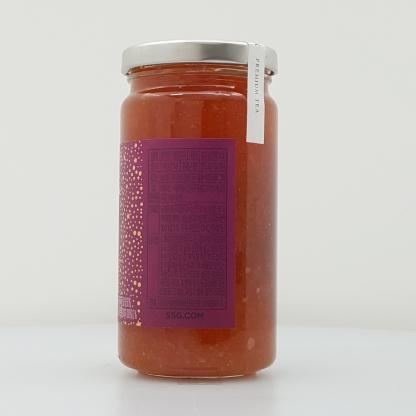---------------400G: (117, 39, 278, 378)
